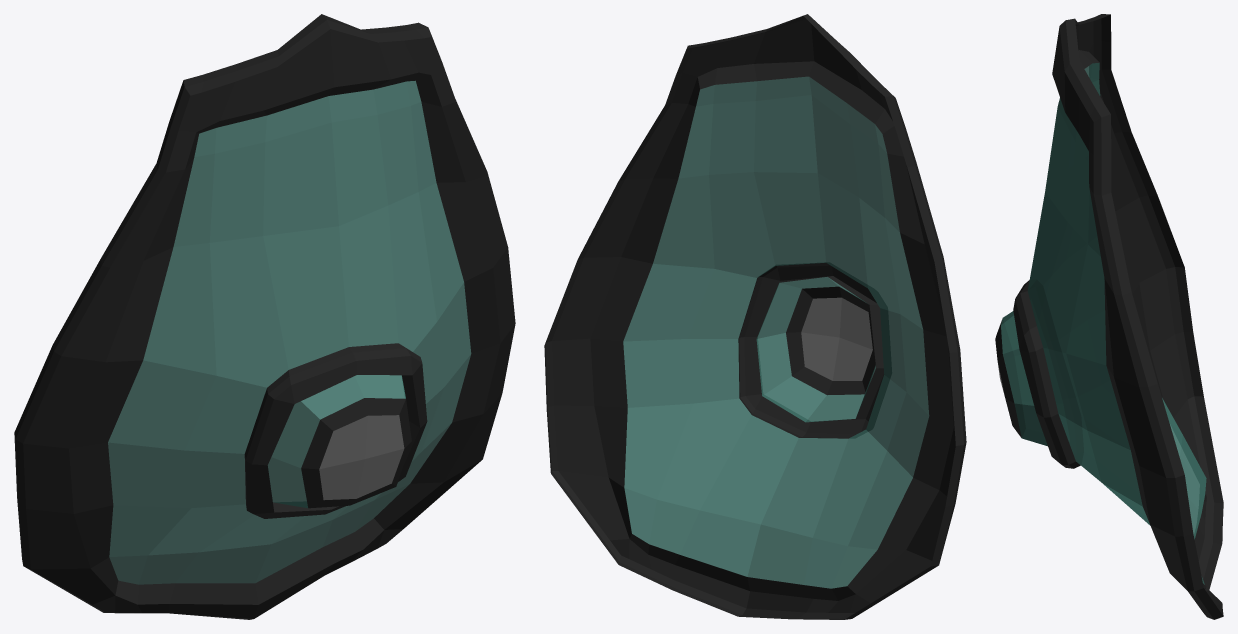
Rendered from narrative gas mask.fbx.
3 renders of one model, left to right at view 1: azimuth 30°, elevation 25°; view 2: azimuth 150°, elevation 25°; view 3: azimuth 270°, elevation 25°, orthographic. The views are drawn at different scales.
Visible parts, largest first — view 1: gas mask; view 2: gas mask; view 3: gas mask.
Part boxes in pixels (<box>): gas mask: <box>14,14,515,619</box>; gas mask: <box>544,14,966,619</box>; gas mask: <box>995,14,1223,619</box>.
Size of the model in its own units: 12.15 by 15.39 by 5.56.
